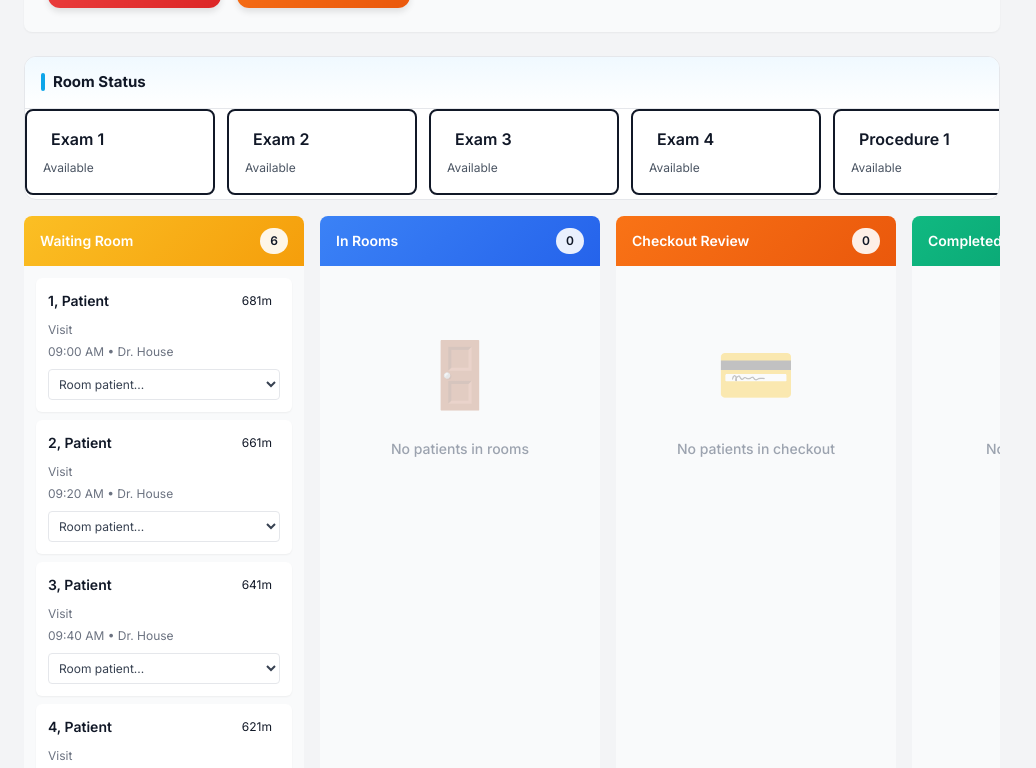
OfficeFlowPage › moves an accidentally roomed patient back to waiting room
This screenshot has width=1036, height=768.
(page scrolled)
Expected: the text "Waiting Room" is shown, [40,232,133,249]
Select "Exam 1" in the dropdown below "09:00 AM": (164, 384) [48,368,280,400]
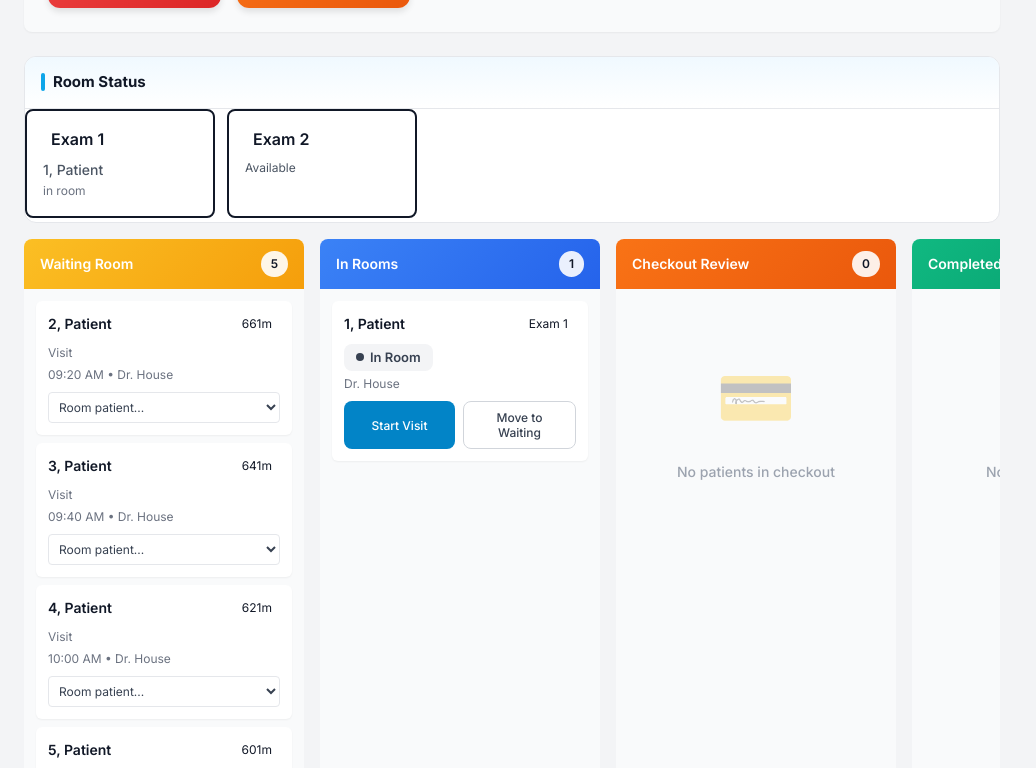
Click the button "Move to Waiting": (520, 425) [463,401,576,449]
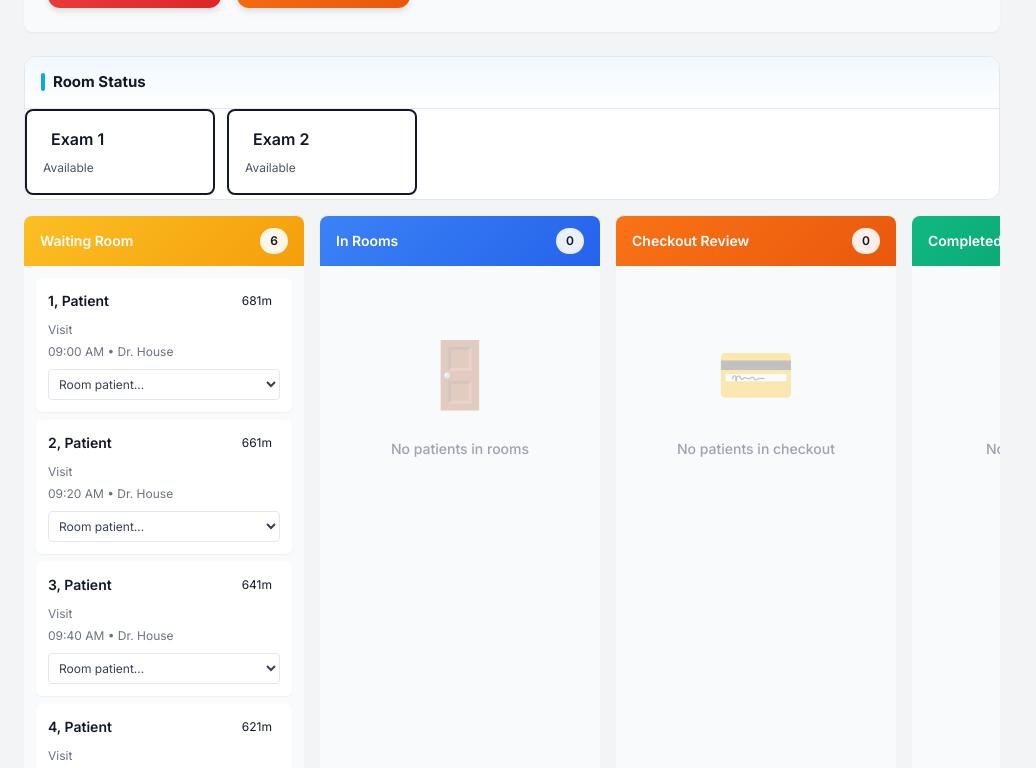
Expected: the button "Move to Waiting" is gone
